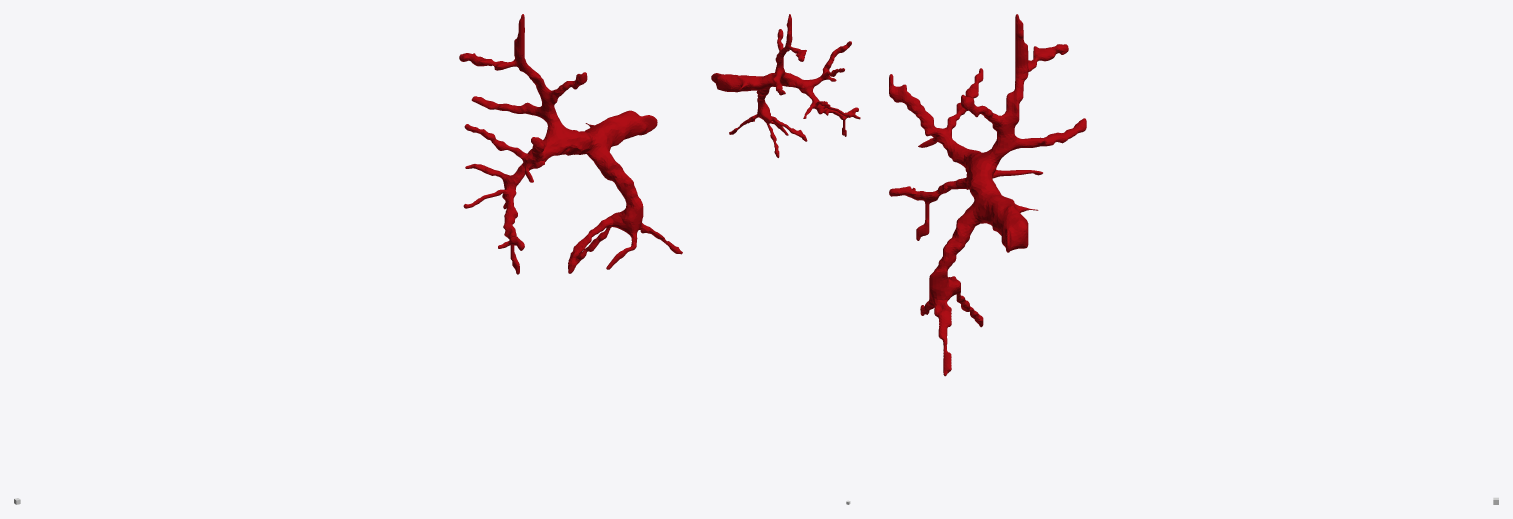
The model's file is vessels.glb.
3 renders of one model, left to right at view 1: azimuth 30°, elevation 25°; view 2: azimuth 150°, elevation 25°; view 3: azimuth 270°, elevation 25°, orthographic. The views are drawn at different scales.
Visible parts, largest first — view 1: obj1; view 2: obj1; view 3: obj1.
Boxes of the visible parts, <box> form: obj1: <box>459,14,682,274</box>; obj1: <box>711,14,860,157</box>; obj1: <box>889,14,1086,376</box>.
Size of the model in its own units: 207 by 259 by 217.
